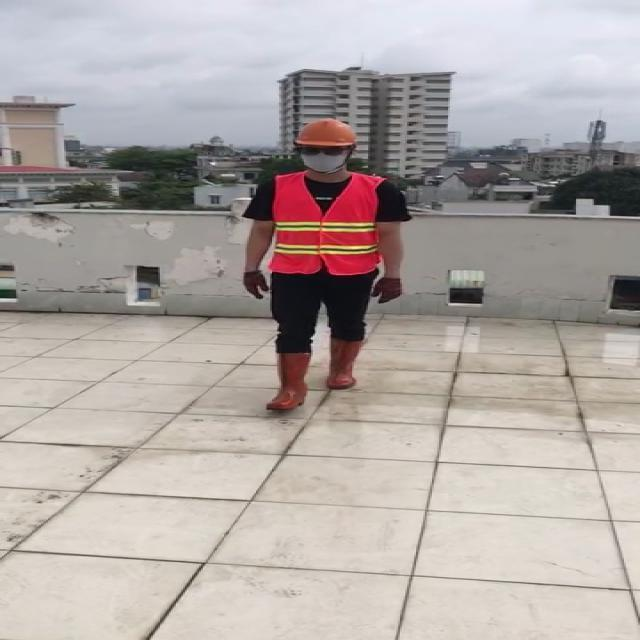gloves: (370, 274, 405, 306), (241, 268, 268, 300)
goggles: (296, 145, 345, 158)
helmet: (287, 119, 366, 150)
safety_vest: (268, 173, 386, 274)
